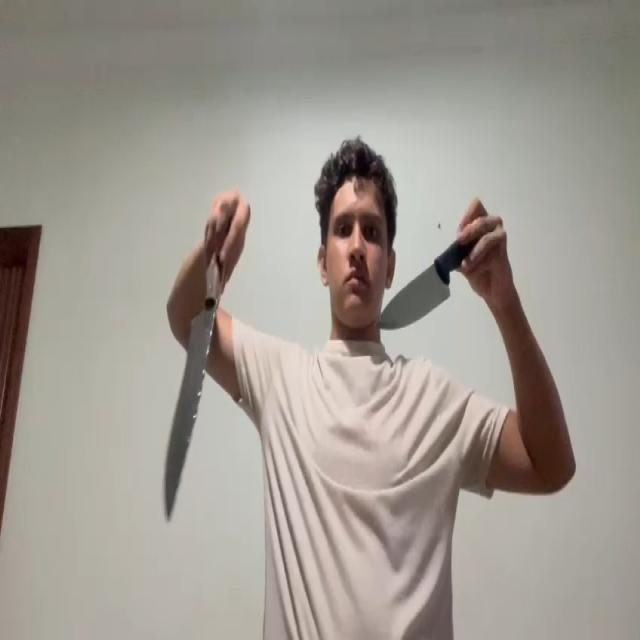knife: (162, 298, 219, 517), (378, 258, 452, 329)
